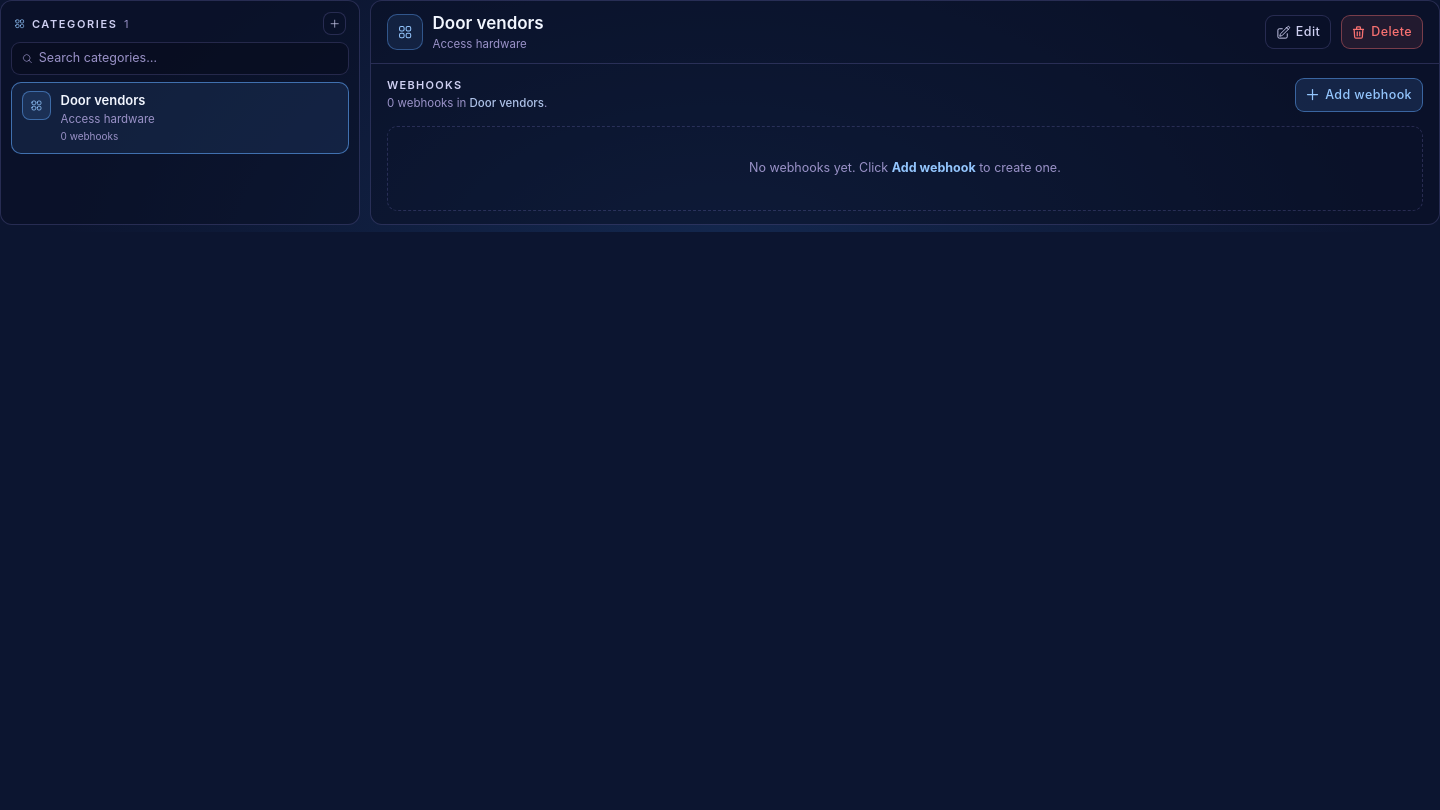
Test: deleting a category › leaves the category alone when the operator backs out
This screenshot has width=1440, height=810.
Click the button titled "Delete category": (1382, 32) [1341,15,1423,49]
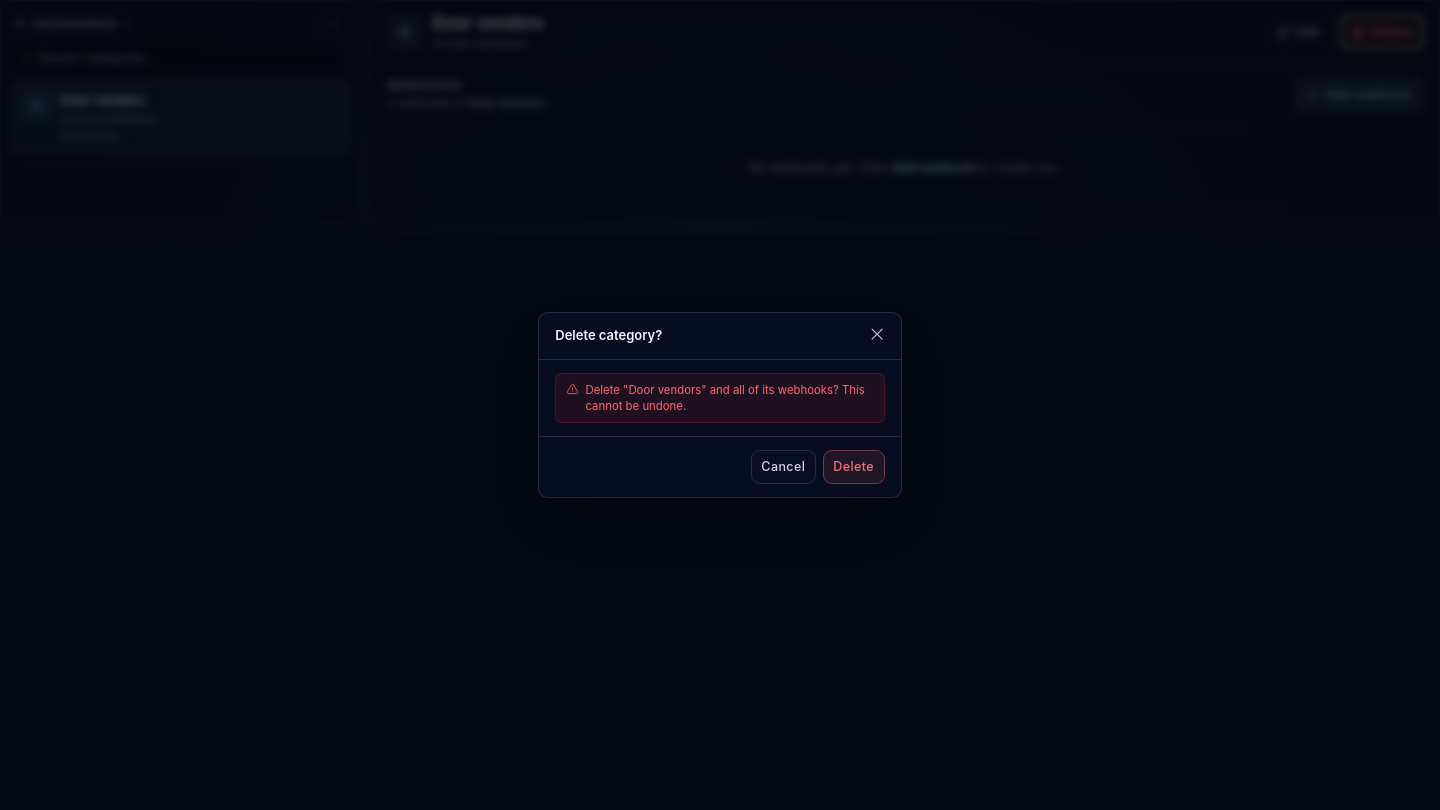
Click the button "Cancel": (783, 467) [751,450,816,484]
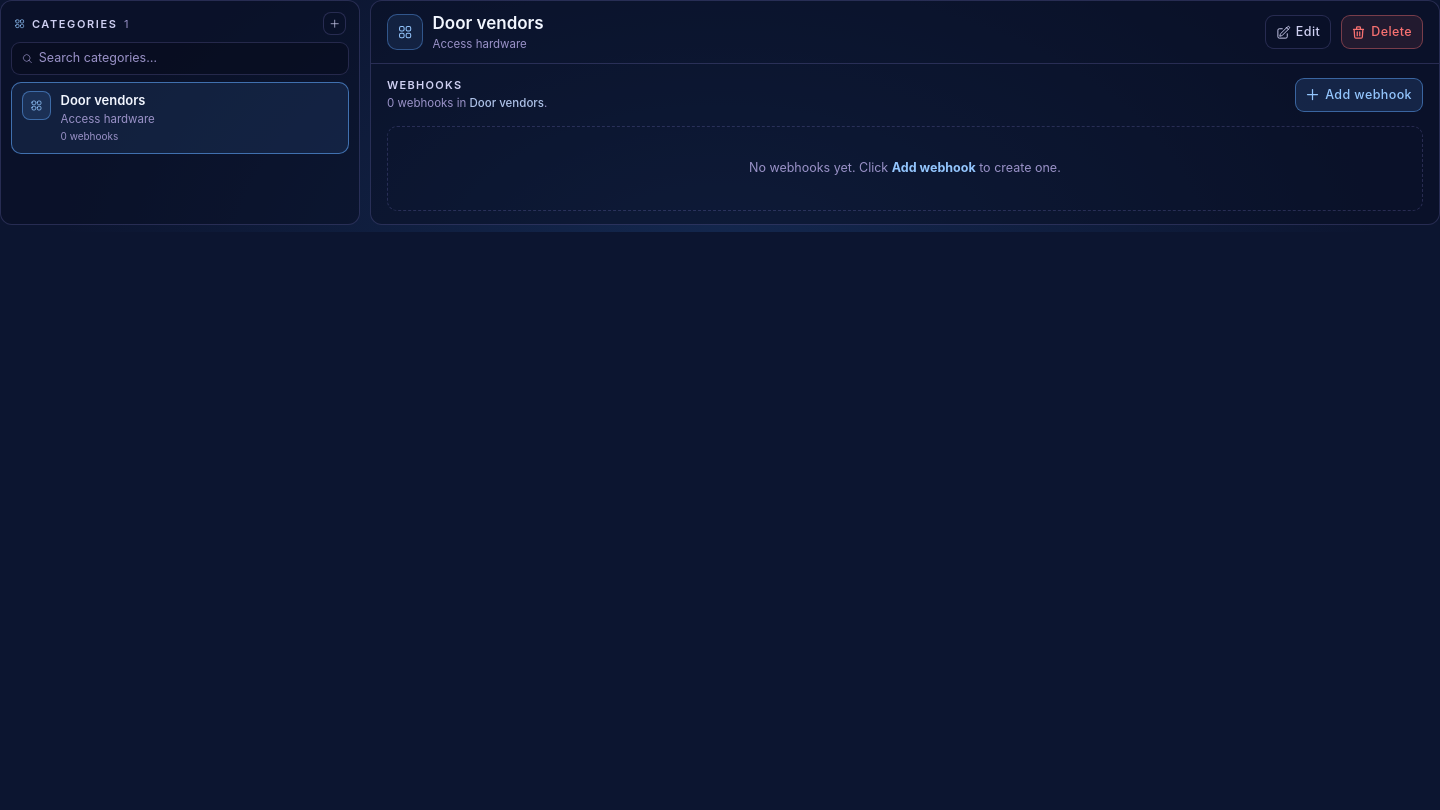
Now the heading "Delete category?" is gone
